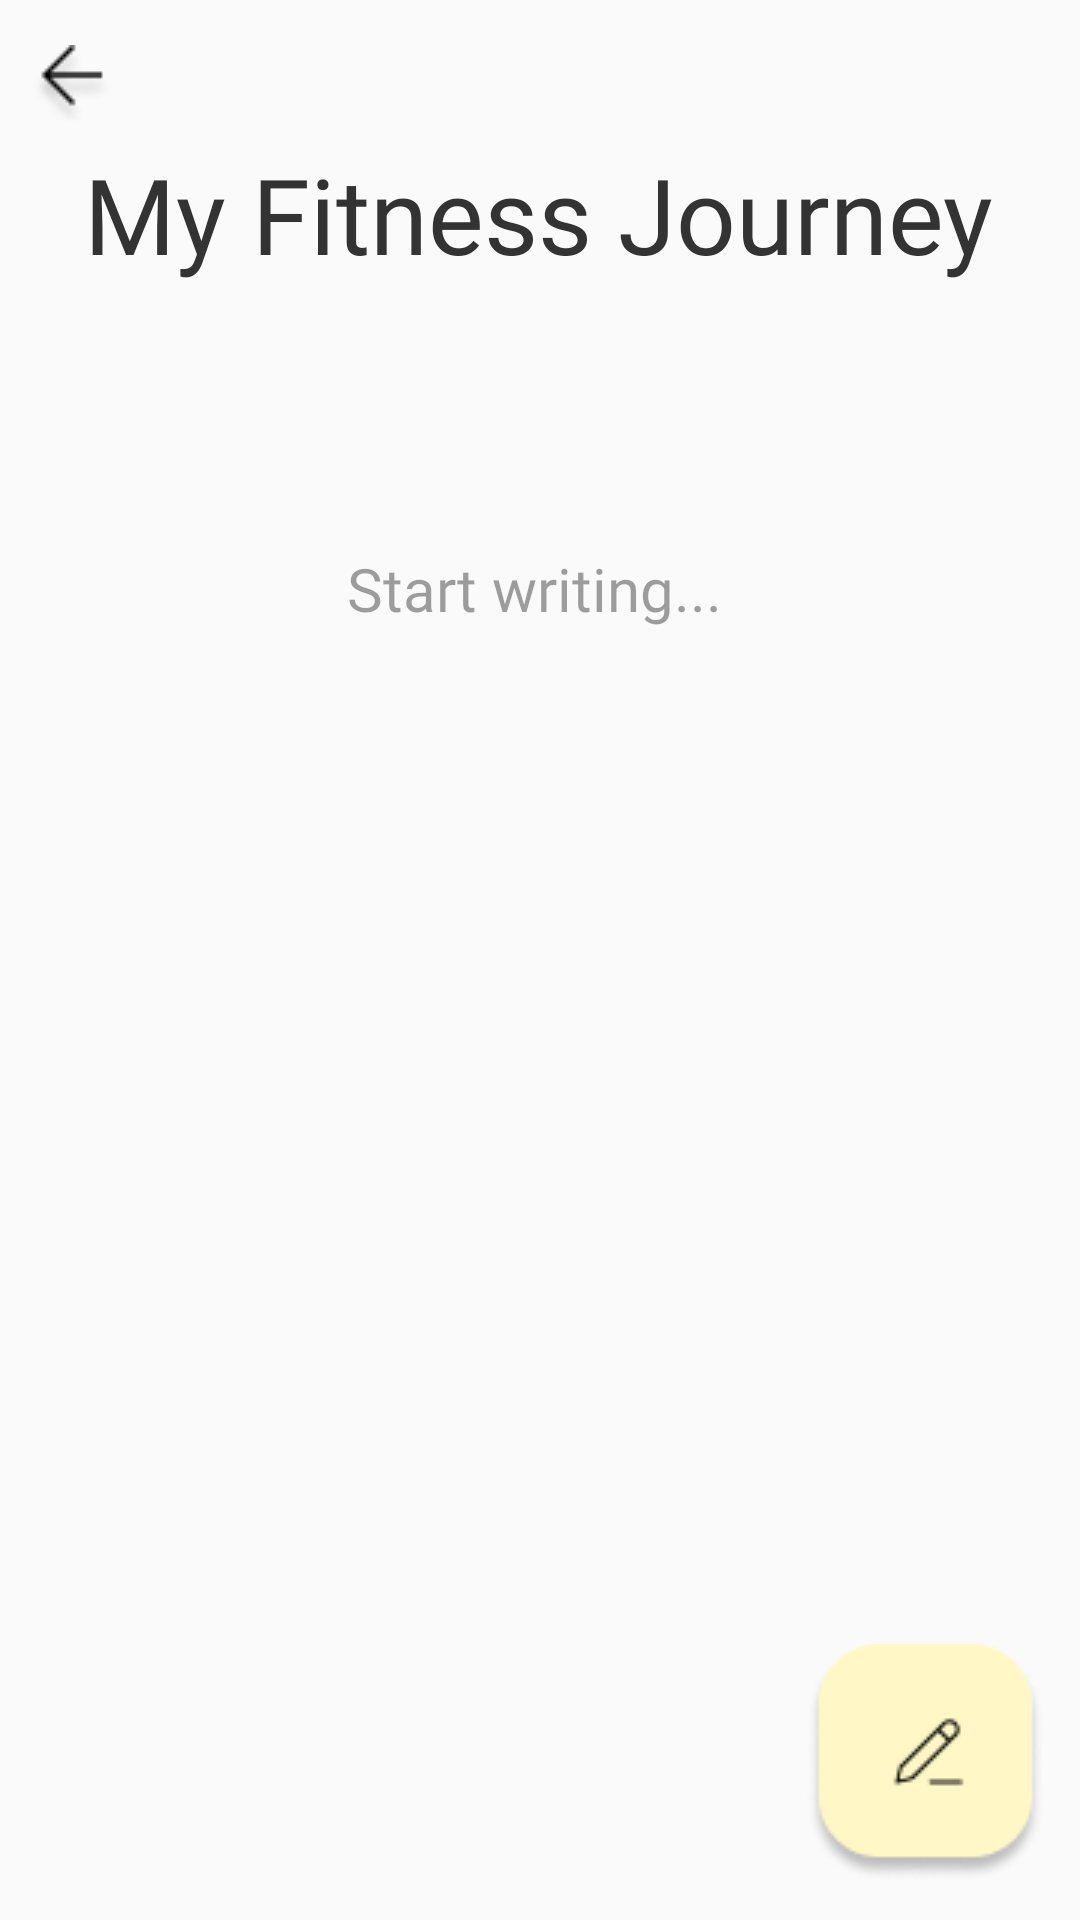

Icon bounding boxes for this 1080 × 1920 phone screenshot, format {"left": x1, "top": y1, "right": x2, "bottom": y2}:
backarrow: {"left": 41, "top": 45, "right": 103, "bottom": 106}
